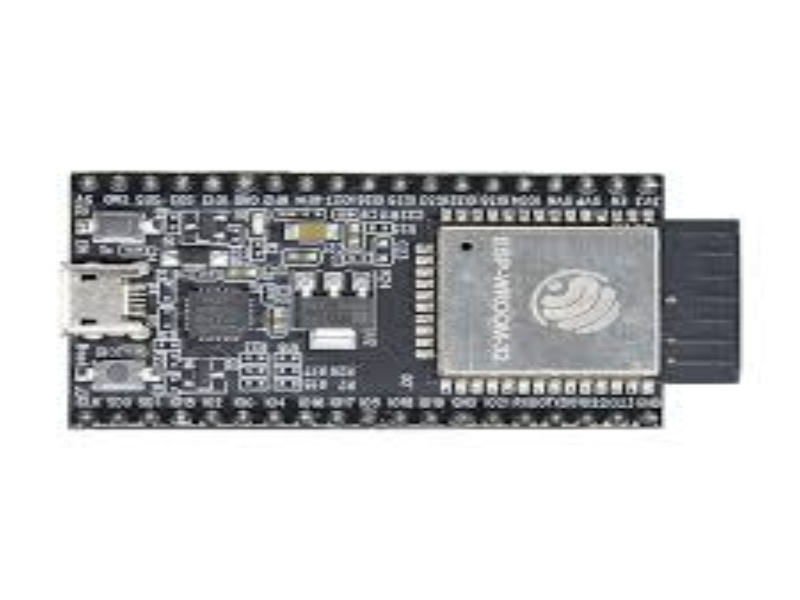esp32: (42, 154, 767, 447)
